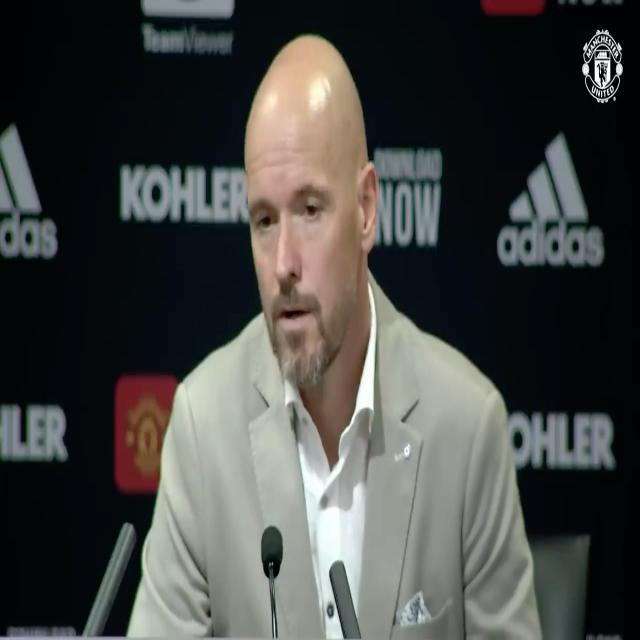Adidas: (497, 128, 604, 266)
Kohler: (121, 163, 250, 223), (507, 412, 616, 469)
TeamViewer: (142, 0, 233, 54)
